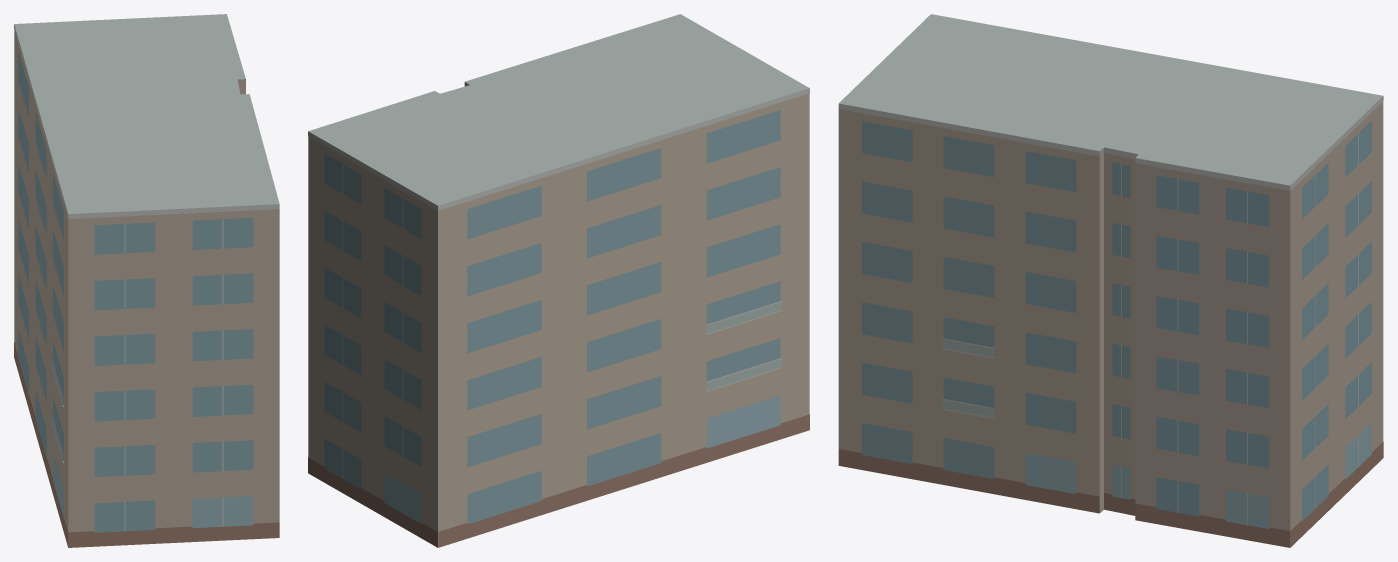
The model's file is survey-upis-32747869.glb.
3 views of the same model, side by side, from view 1: azimuth 30°, elevation 25°; view 2: azimuth 150°, elevation 25°; view 3: azimuth 270°, elevation 25° (orthographic). The views are drawn at different scales.
Parts seen in each view (by area): view 1: survey-upis-32747869.tmp; view 2: survey-upis-32747869.tmp; view 3: survey-upis-32747869.tmp.
Part boxes in pixels (<box>): survey-upis-32747869.tmp: <box>14,14,279,547</box>; survey-upis-32747869.tmp: <box>308,14,809,547</box>; survey-upis-32747869.tmp: <box>838,14,1383,547</box>.
Size of the model in its own units: 16.78 by 16.5 by 22.5.
